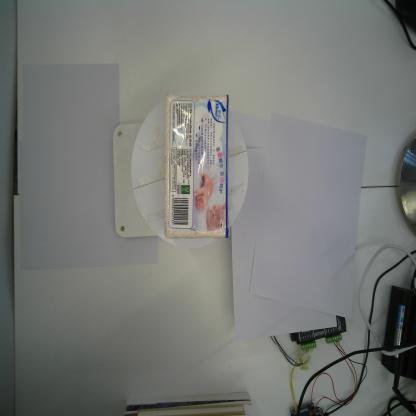Tissue: (160, 89, 232, 241)
